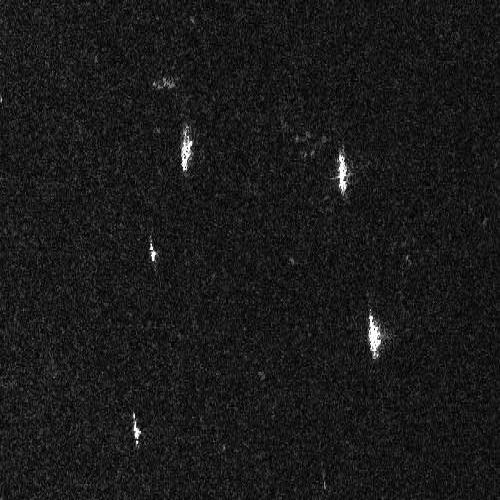ship: (367, 311, 382, 360), (336, 148, 350, 198), (180, 126, 193, 173), (131, 411, 142, 447), (149, 236, 157, 264)
